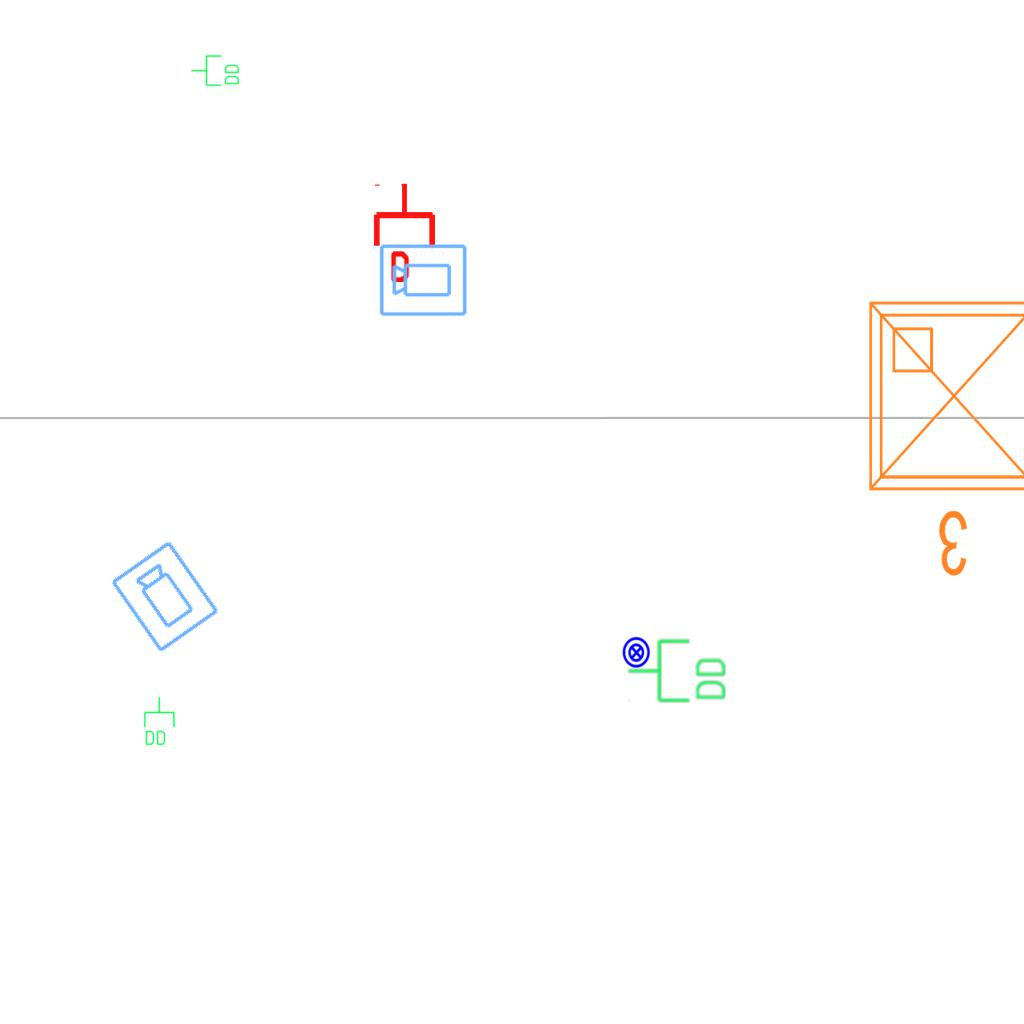Datenanschluss_einfach: (370, 182, 439, 282)
Datenanschluss_zweifach: (626, 637, 729, 706), (142, 696, 176, 747), (190, 54, 241, 88)
Einbaudownlights_LED_Konferenzraeume: (854, 287, 1024, 587)
KFO_Kamera_mit_Festobjektiv: (107, 537, 224, 656), (378, 241, 469, 318)
Taster_beleuchtet: (620, 636, 653, 669)
